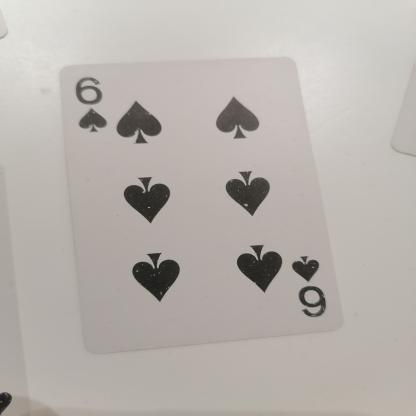6S: (288, 247, 338, 322), (66, 70, 118, 140)
